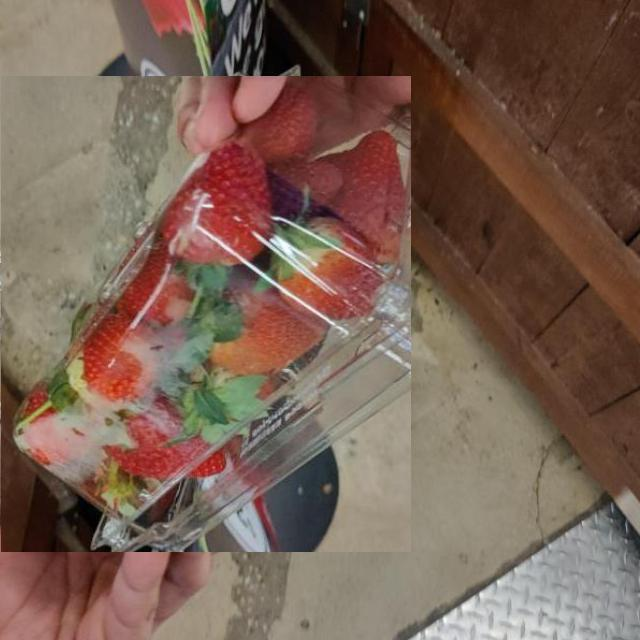Strawberries: (0, 75, 411, 552)
